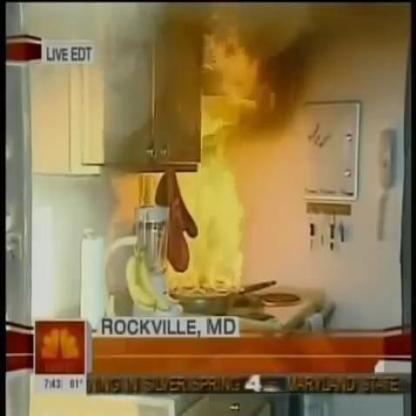fire: (155, 21, 270, 299)
